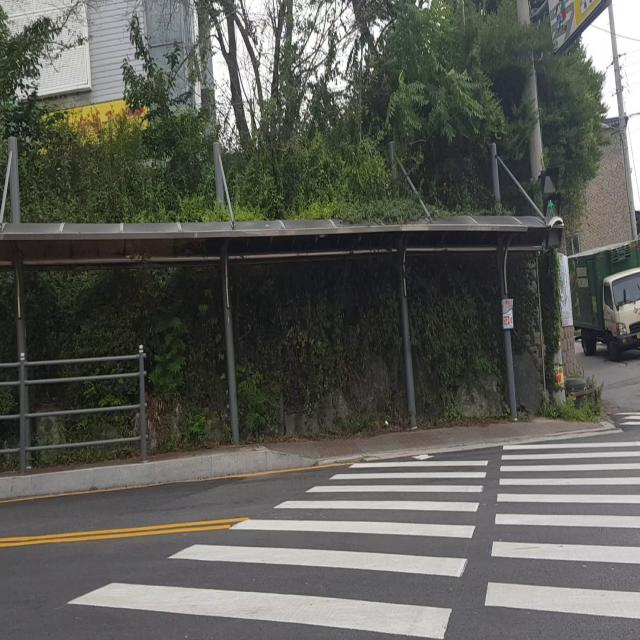횡단보도: (66, 438, 640, 640)
